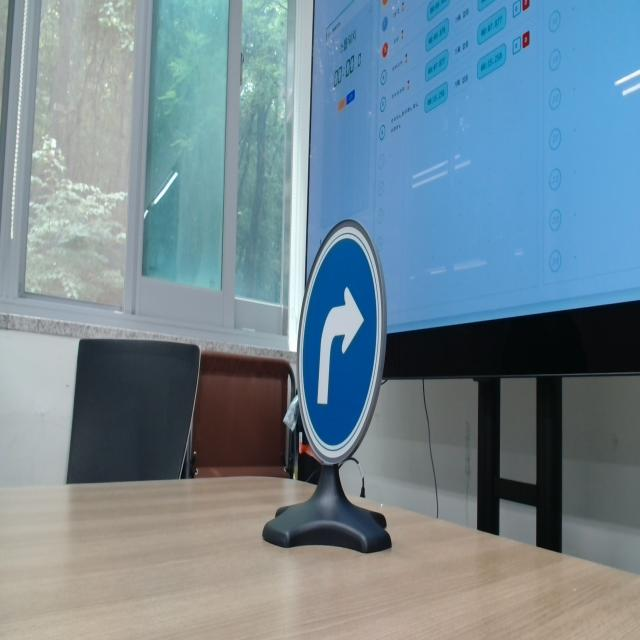right_dierection: (286, 213, 387, 458)
